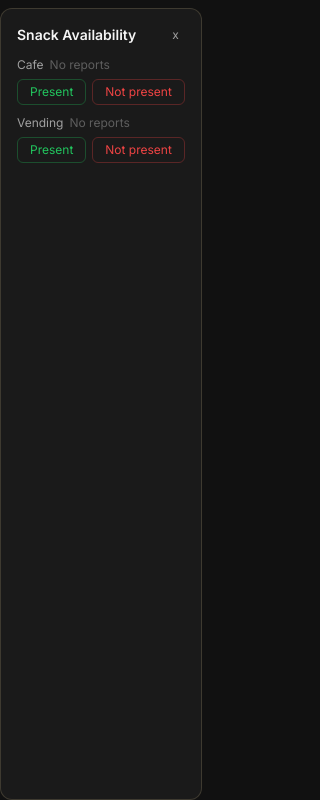
Test case: SnackReporter › shows duplicate error on 409 response
Click the button "Present" below "Cafe" at {"x": 52, "y": 92}, box x1=17 y1=79 x2=86 y2=105
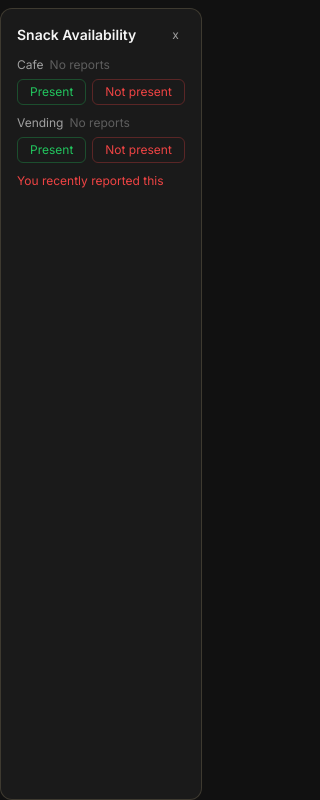
Now the text "You recently reported this" is shown, box x1=17 y1=173 x2=185 y2=189
